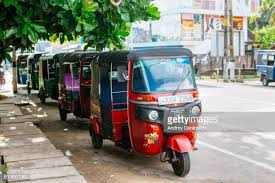tuk tuk: (88, 47, 204, 177), (58, 52, 90, 120), (39, 54, 58, 104), (24, 52, 40, 93), (17, 52, 26, 86)
